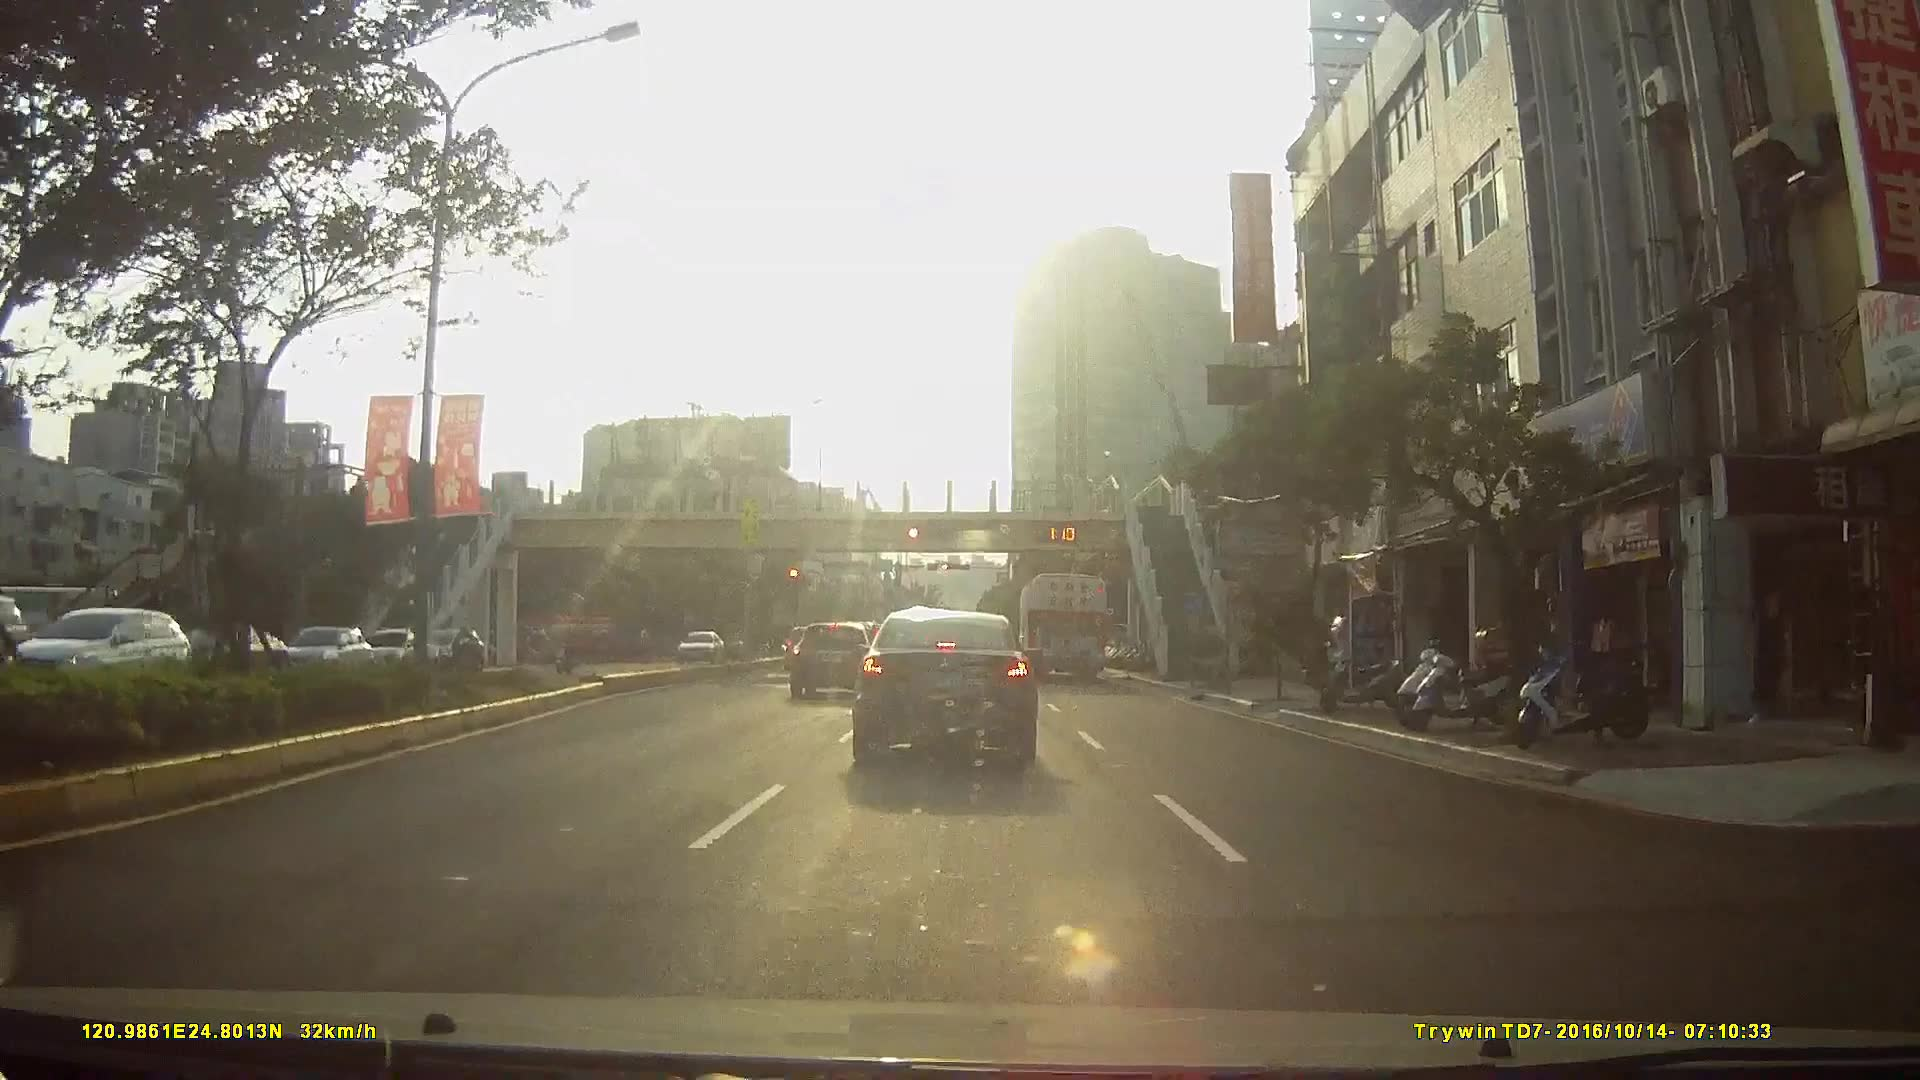rider: (551, 624, 582, 675)
vehicle: (850, 607, 1041, 767), (1017, 568, 1113, 681), (785, 617, 876, 699), (279, 624, 373, 675), (417, 624, 484, 669), (672, 626, 725, 664)
